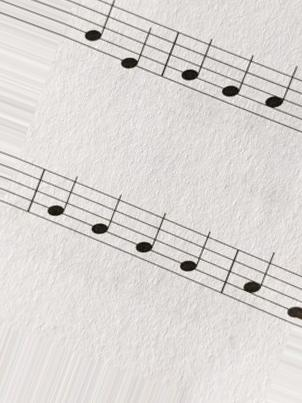note: (219, 50, 258, 121), (173, 222, 212, 289), (240, 249, 277, 319), (119, 9, 156, 78), (130, 204, 166, 272), (177, 29, 213, 96), (262, 65, 297, 132), (91, 188, 124, 258), (81, 1, 117, 61), (48, 169, 80, 233)
